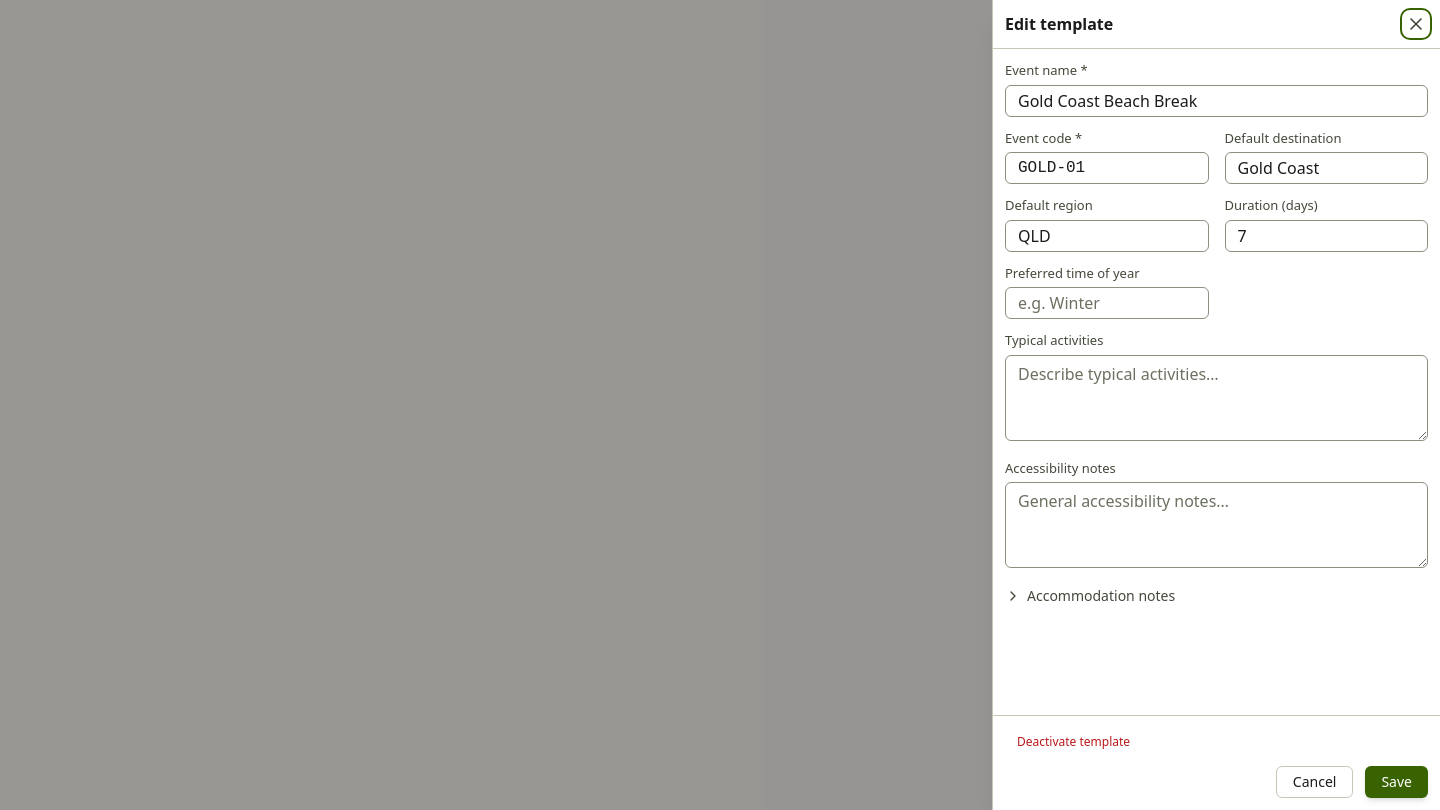
TemplateFormPanel as a dialog › asks before deactivating with the house sm Buttons, and Cancel puts the link back
The image size is (1440, 810).
Click the button "Deactivate template" at (1074, 742), box [1005,730,1142,754]
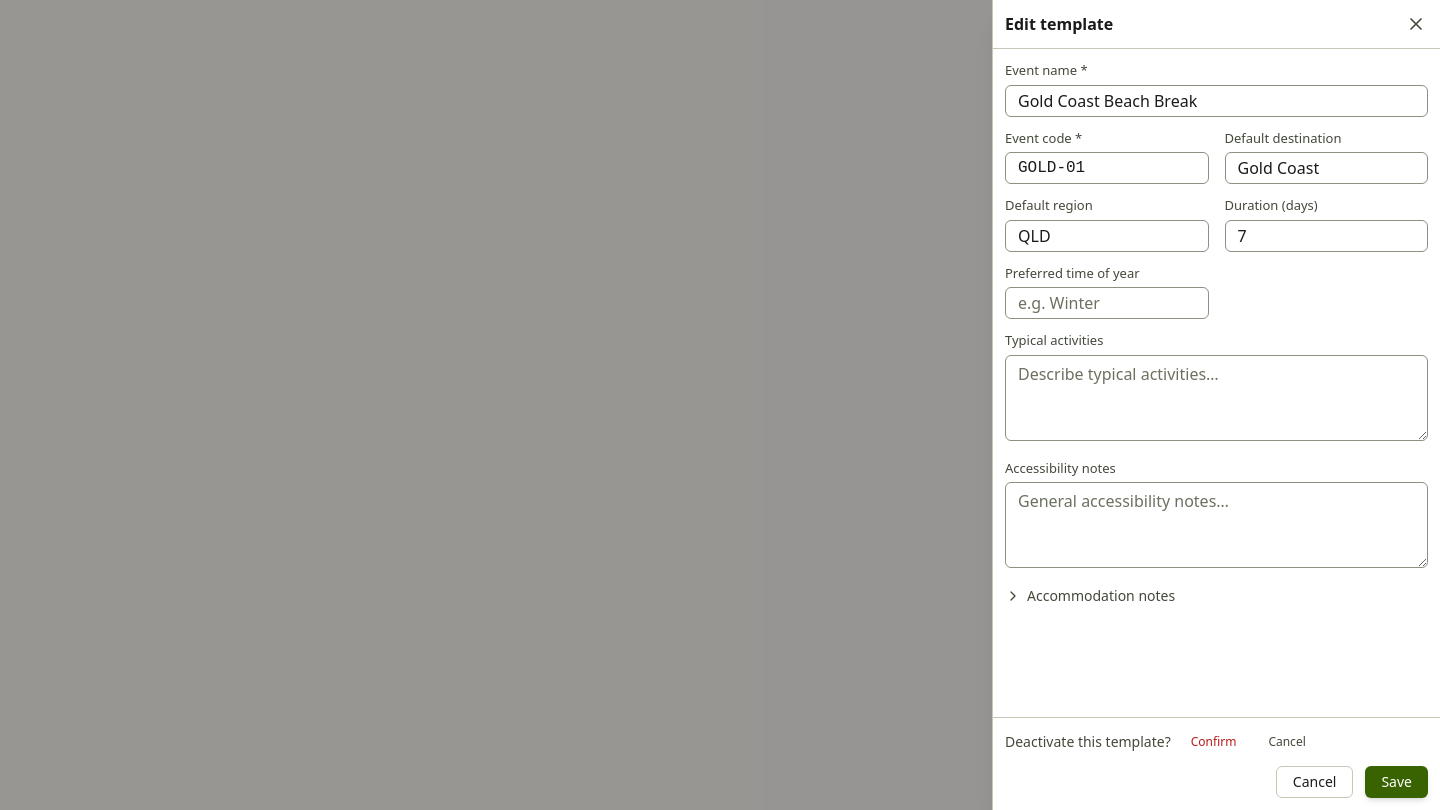
Click the button "Cancel" in the row of "Deactivate this template?" at (1287, 742), box [1256,730,1318,754]
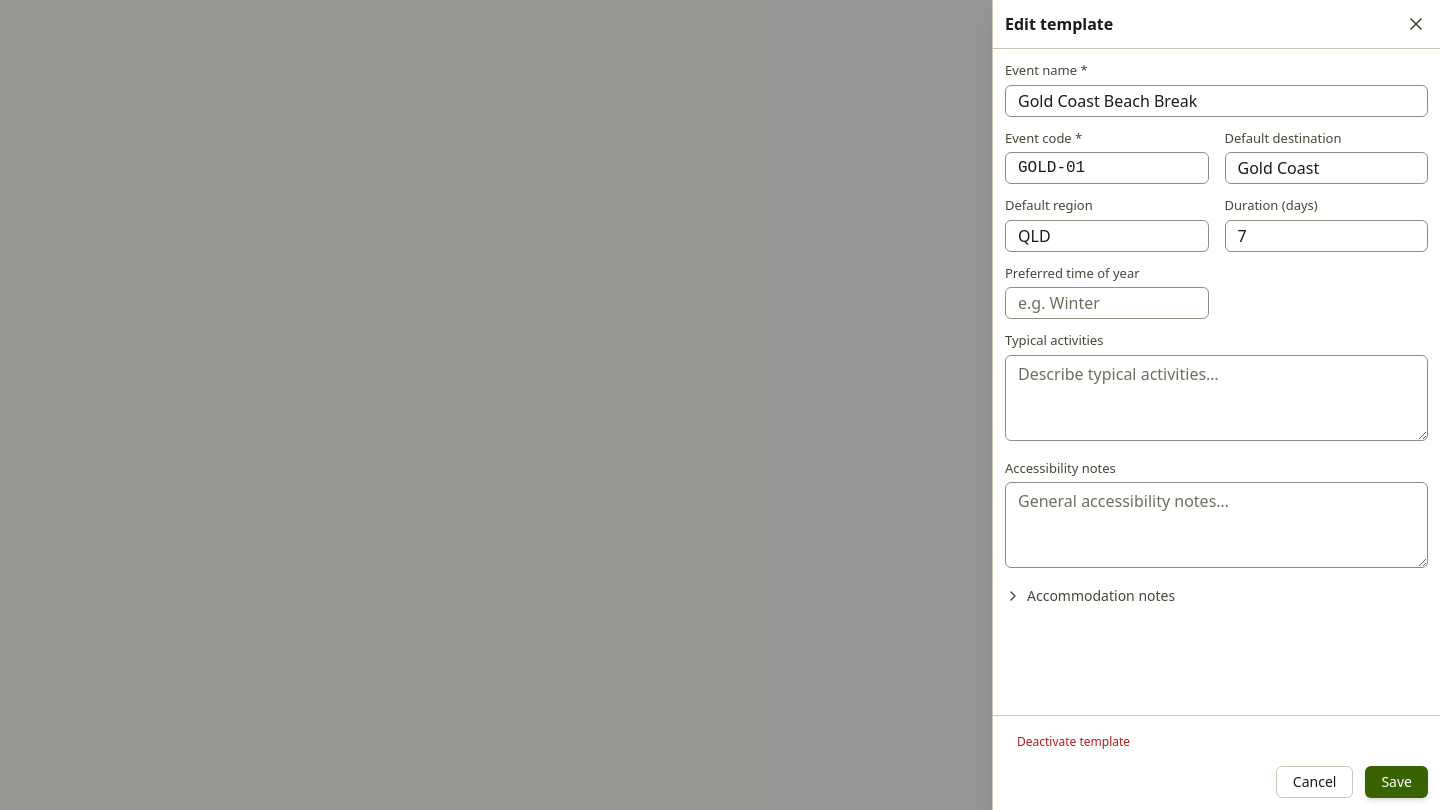
Expected: the text "Deactivate this template?" is gone
Expected: the button "Deactivate template" is shown, [1005,730,1142,754]
